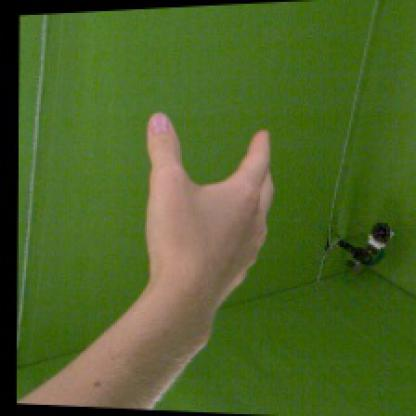Hand: (146, 111, 277, 308)
